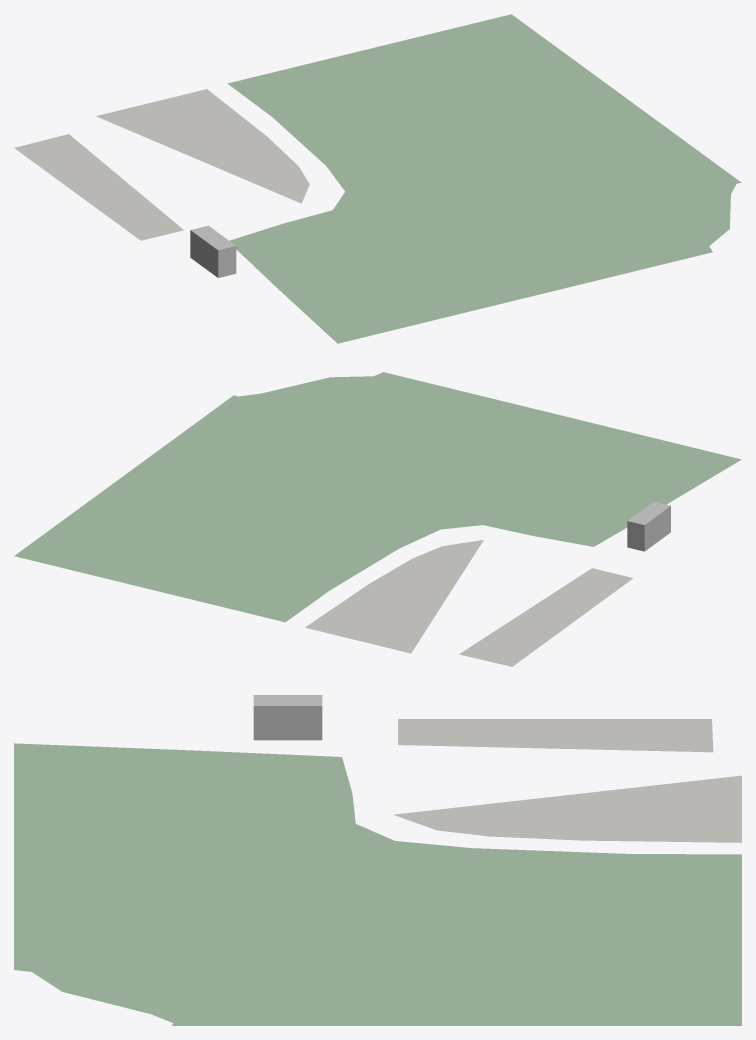
Rendered from 93_107_mid.glb.
The picture shows the model from 3 angles, top to bottom: view 1: azimuth 30°, elevation 25°; view 2: azimuth 150°, elevation 25°; view 3: azimuth 270°, elevation 25°; orthographic projection. The views are drawn at different scales.
Bounding box in the file's own units: 500 × 26.78 × 500.
